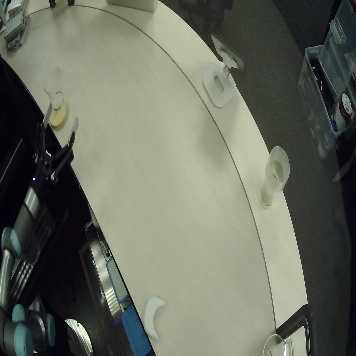empty_cup: (259, 145, 292, 208), (257, 327, 290, 356), (44, 67, 66, 110)
puck: (144, 295, 165, 339), (49, 102, 69, 132)
